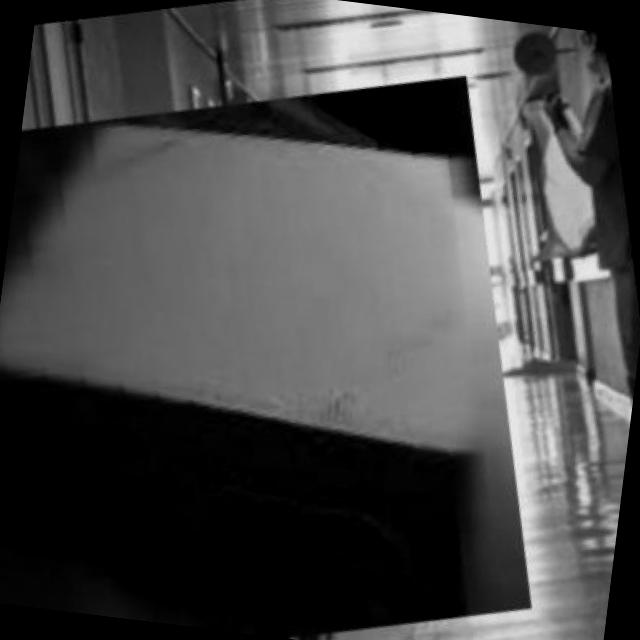box: (0, 11, 608, 640)
